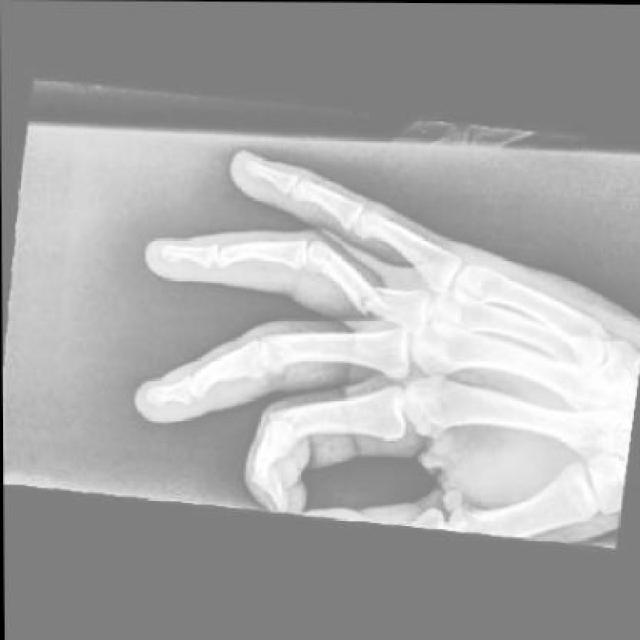Fracture: (348, 283, 392, 324)
